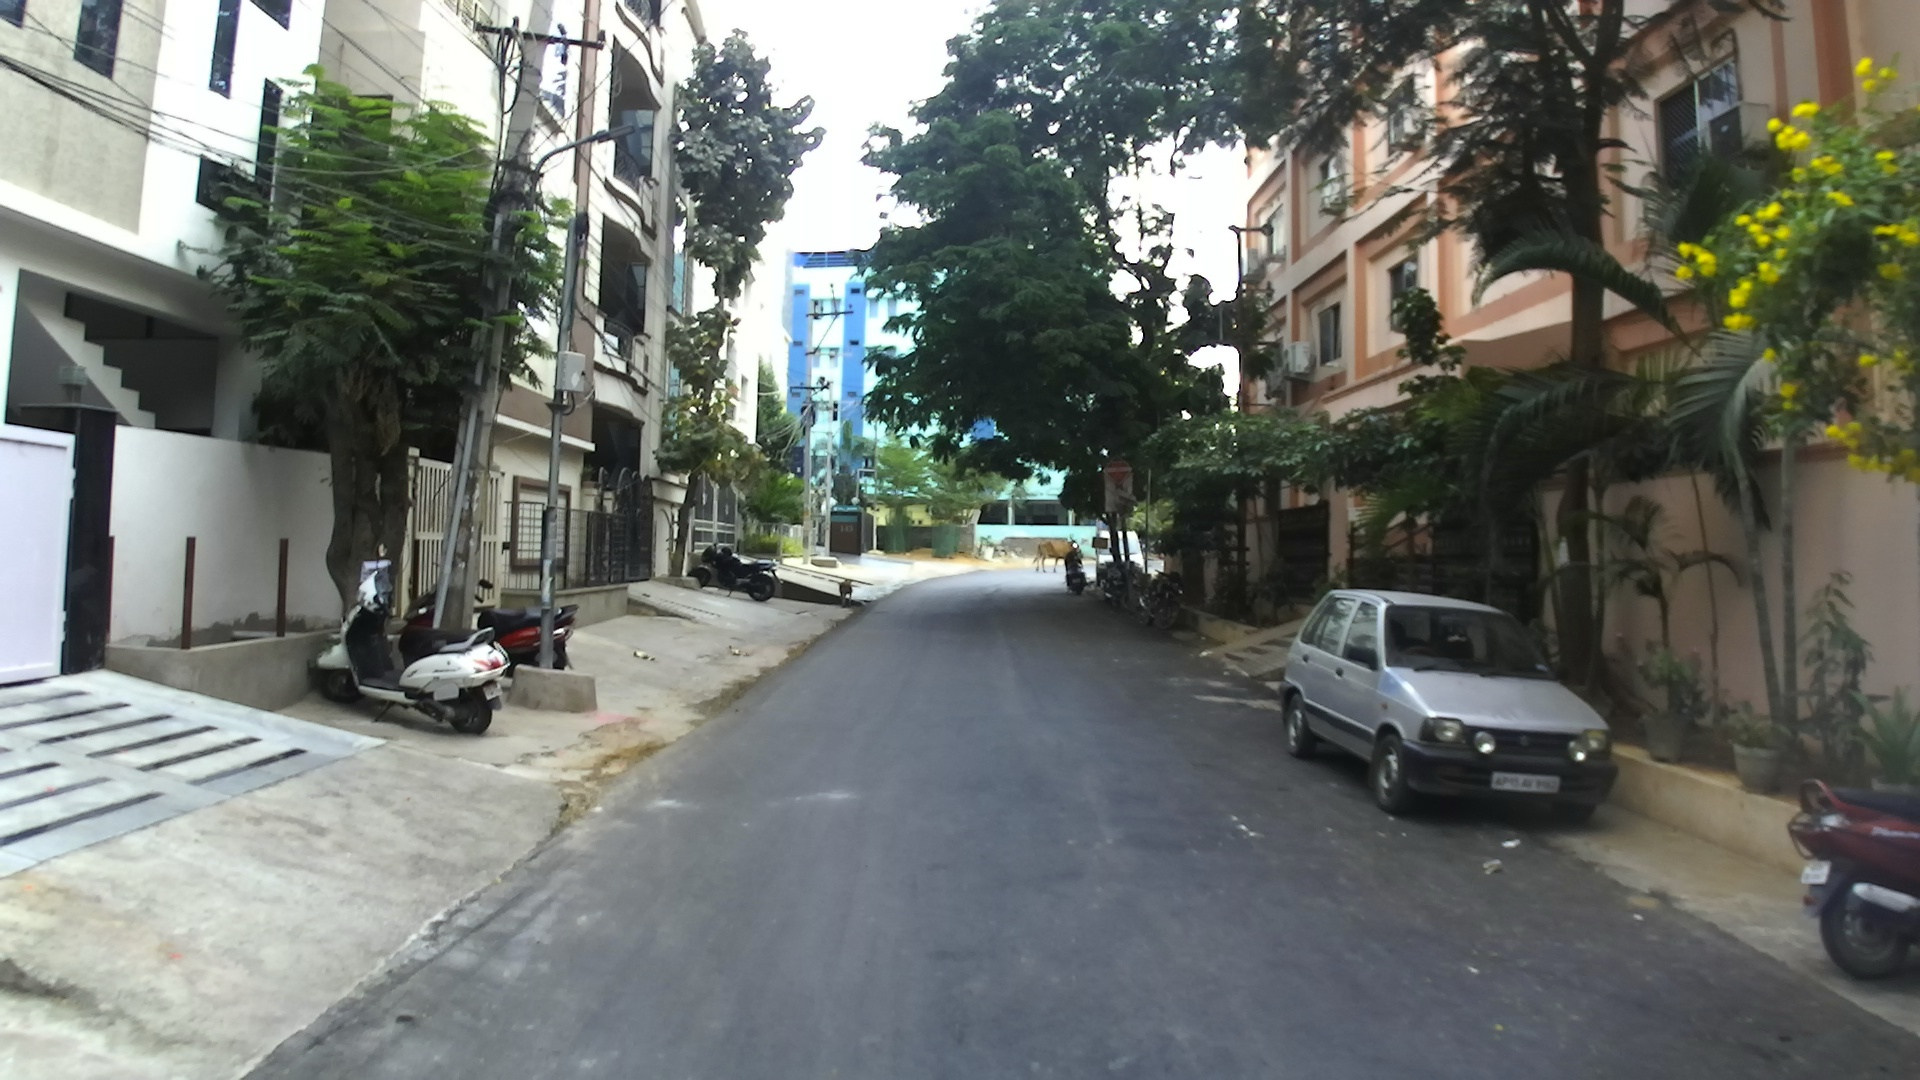vehicle: (1275, 587, 1617, 825), (1785, 774, 1917, 978), (690, 545, 781, 599)
